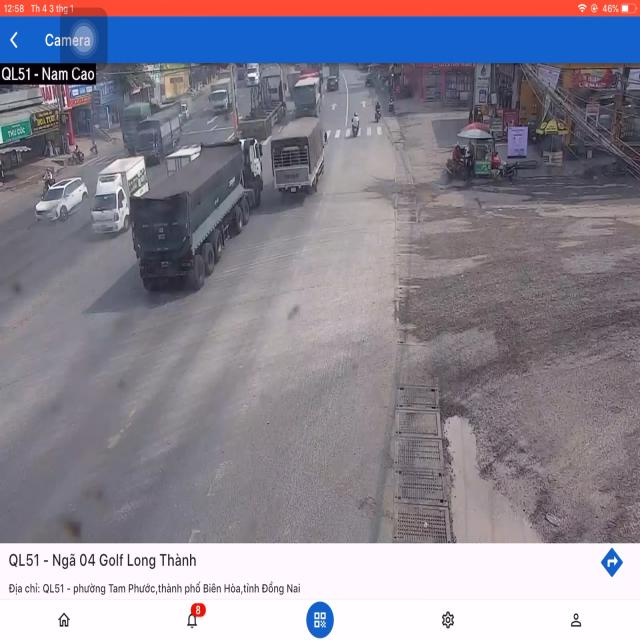car: (37, 174, 86, 224)
truck: (130, 124, 258, 295), (256, 116, 325, 208), (93, 157, 131, 237), (135, 114, 180, 155), (209, 76, 234, 113)
